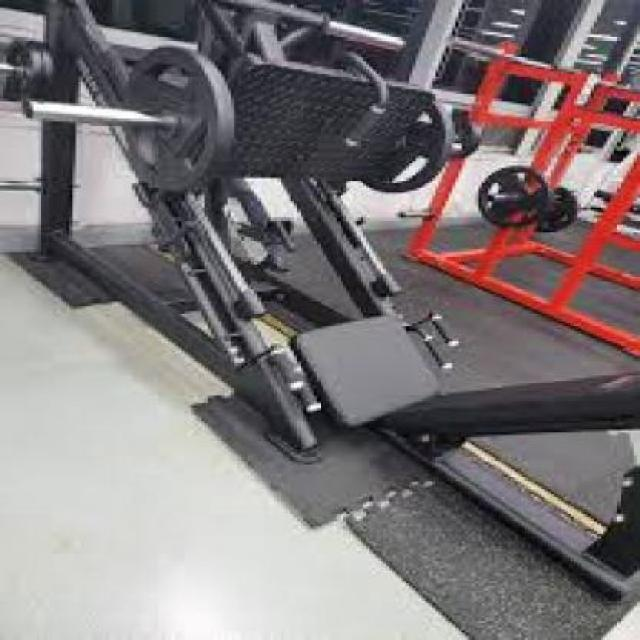leg press: (0, 0, 640, 608)
